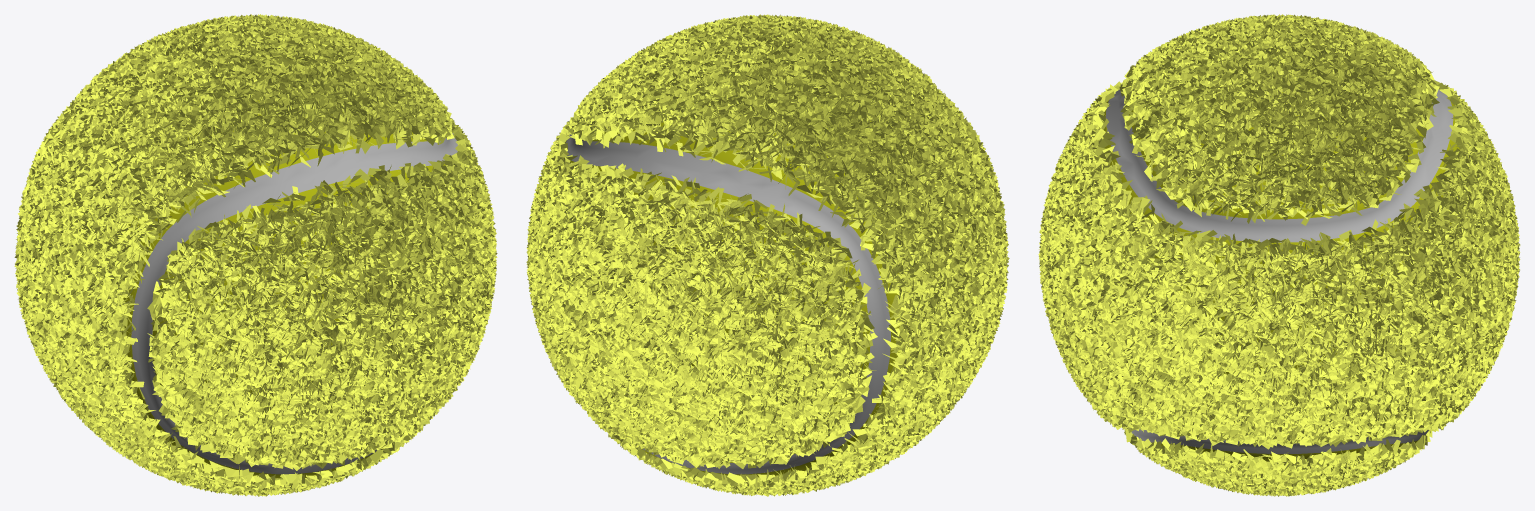
File: tennis-ball.glb
3 views of the same model, side by side, from view 1: azimuth 30°, elevation 25°; view 2: azimuth 150°, elevation 25°; view 3: azimuth 270°, elevation 25° (orthographic).
Parts seen in each view (by area): view 1: Fuzz_Export_Fuzz_Export_0, Fuzz_Export_Ball_Lines_Export_0, Fuzz_Export_Ball_Fuzz_Export_0; view 2: Fuzz_Export_Fuzz_Export_0, Fuzz_Export_Ball_Lines_Export_0, Fuzz_Export_Ball_Fuzz_Export_0; view 3: Fuzz_Export_Fuzz_Export_0, Fuzz_Export_Ball_Lines_Export_0, Fuzz_Export_Ball_Fuzz_Export_0.
Part boxes in pixels (<box>): Fuzz_Export_Fuzz_Export_0: <box>14,14,497,496</box>; Fuzz_Export_Ball_Lines_Export_0: <box>131,133,457,474</box>; Fuzz_Export_Ball_Fuzz_Export_0: <box>90,97,446,478</box>; Fuzz_Export_Fuzz_Export_0: <box>526,14,1009,496</box>; Fuzz_Export_Ball_Lines_Export_0: <box>566,134,891,474</box>; Fuzz_Export_Ball_Fuzz_Export_0: <box>565,90,935,477</box>; Fuzz_Export_Fuzz_Export_0: <box>1038,14,1520,496</box>; Fuzz_Export_Ball_Lines_Export_0: <box>1105,89,1453,453</box>; Fuzz_Export_Ball_Fuzz_Export_0: <box>1090,92,1459,461</box>.
Size of the model in its own units: 1.69 by 1.69 by 1.69.
3 materials, 1 textured.
